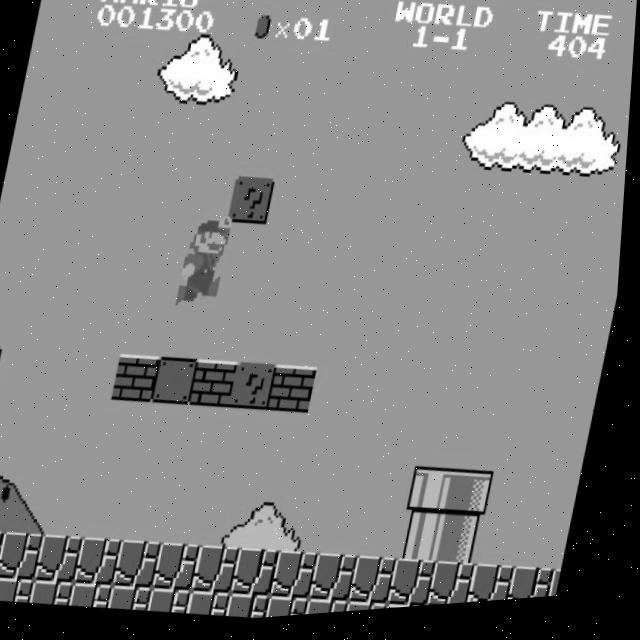0- big_mario: (176, 212, 238, 314)
1- brick_block: (273, 367, 323, 421), (195, 360, 244, 414), (116, 354, 165, 407)
13- mystery_block: (234, 364, 284, 418), (230, 178, 279, 231)
14- pipe: (404, 517, 454, 571), (443, 520, 493, 574)
15- pipe_head: (413, 471, 463, 525), (452, 475, 502, 528)
17- undestructible_block: (2, 530, 52, 584), (120, 540, 170, 594), (199, 546, 249, 600), (317, 556, 367, 610), (238, 550, 288, 603), (356, 560, 406, 613), (395, 562, 445, 615), (42, 533, 91, 587), (160, 543, 209, 597), (81, 537, 130, 590), (278, 553, 327, 606), (434, 566, 484, 613), (474, 569, 524, 610), (514, 572, 563, 608), (77, 582, 122, 613), (116, 585, 161, 616), (155, 588, 200, 619), (37, 579, 83, 609), (195, 592, 240, 622), (233, 595, 279, 624), (0, 576, 44, 606), (273, 599, 319, 622), (312, 601, 357, 620), (0, 527, 12, 580), (352, 605, 397, 618), (554, 577, 569, 606), (0, 572, 4, 602)
3- empty_block: (155, 357, 205, 411), (0, 342, 7, 393)
